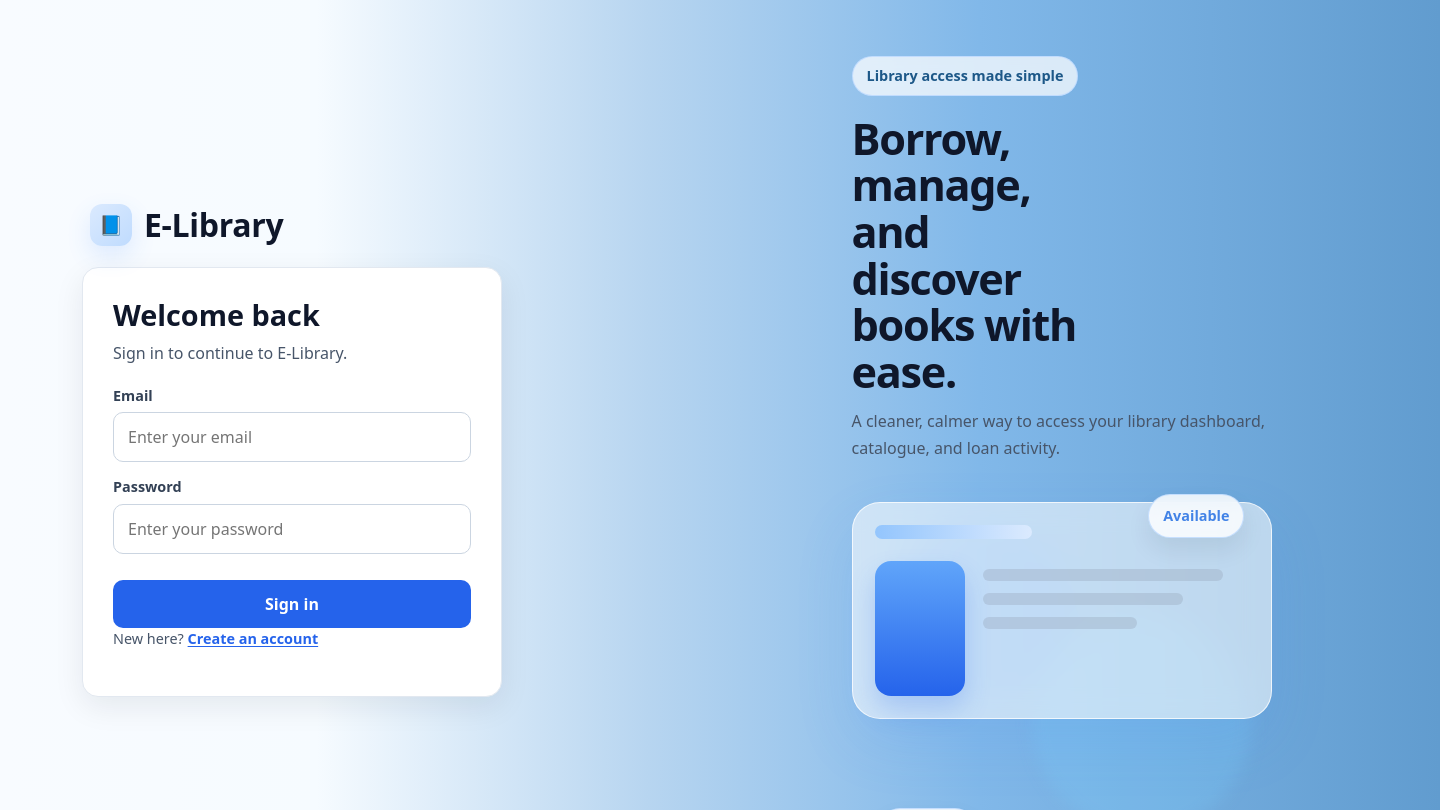
it: LoginPage › switches to register when Create an account is chosen
What coordinates should you click on to do the following:
click the button "Create an account"
I would click on:
 (253, 639)
Its box is [188,628,318,650].
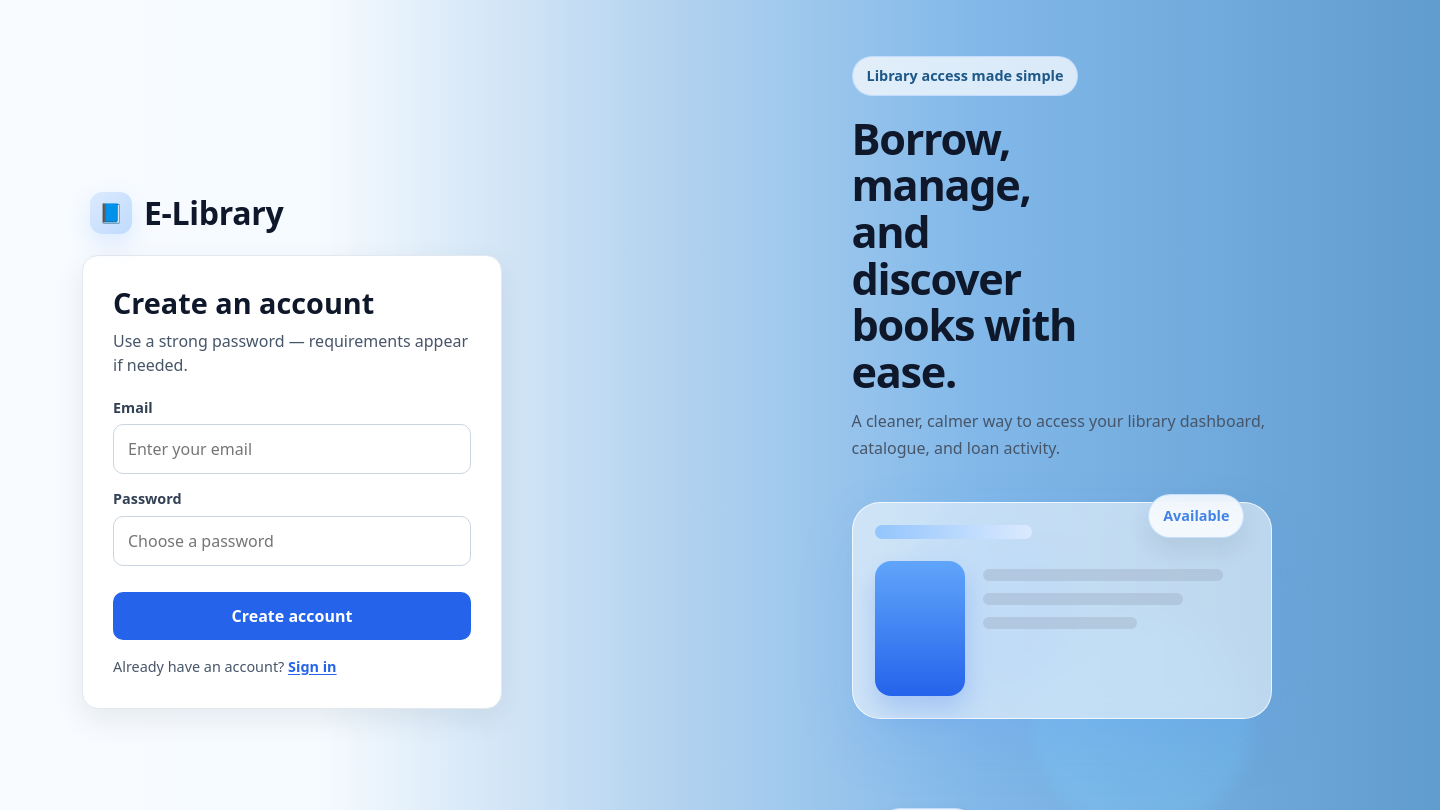
Check: the heading "Create an account" is shown, box [113,283,374,322]
Check: the button "Create account" is shown, box [113,592,471,640]
